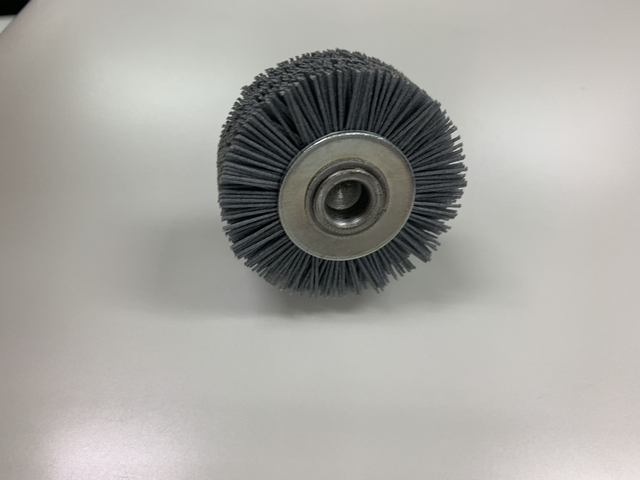Wheel Brush: (215, 44, 471, 290), (209, 47, 436, 294)
